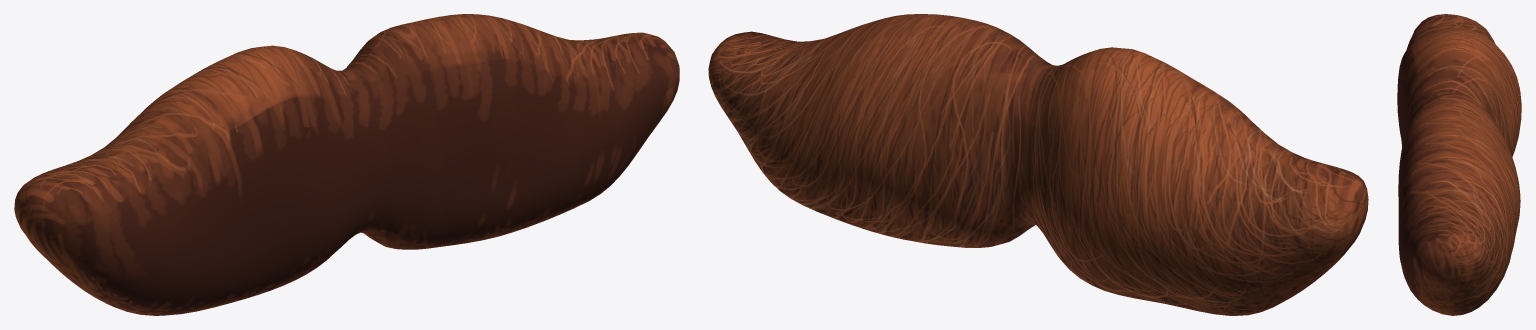
File: moustache.fbx
The picture shows the model from 3 angles, left to right: view 1: azimuth 30°, elevation 25°; view 2: azimuth 150°, elevation 25°; view 3: azimuth 270°, elevation 25°; orthographic projection. The views are drawn at different scales.
Parts seen in each view (by area): view 1: Moustache; view 2: Moustache; view 3: Moustache.
Boxes of the visible parts, left/top/right/bottom form: Moustache: left=14, top=14, right=679, bottom=315; Moustache: left=708, top=14, right=1368, bottom=315; Moustache: left=1397, top=14, right=1521, bottom=315.
Bounding box in the file's own units: 139 × 48.65 × 31.01.
